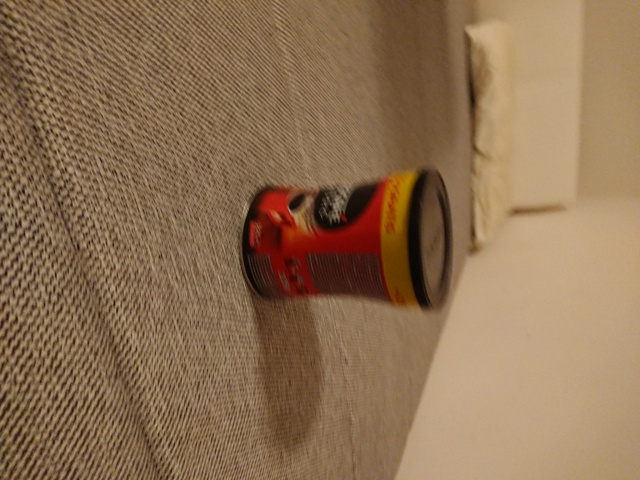Nescafe Classic 225g: (237, 162, 457, 317)
